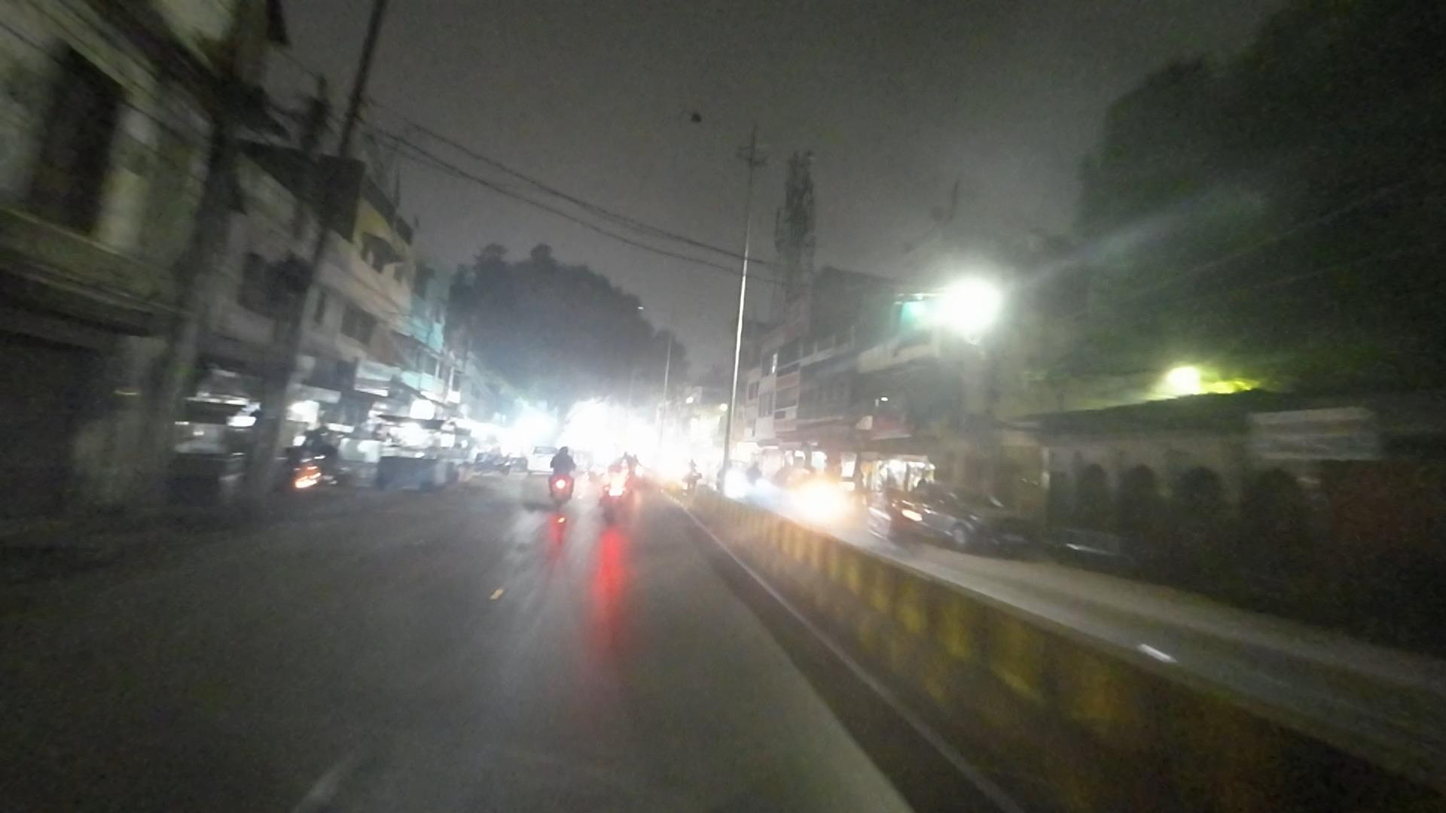streetlight: (678, 104, 749, 138), (763, 141, 819, 160)
